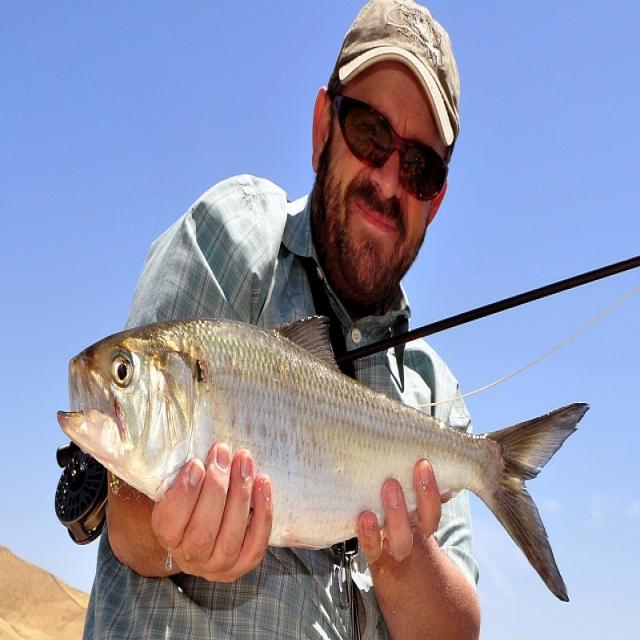Shad - American: (58, 319, 588, 600)
